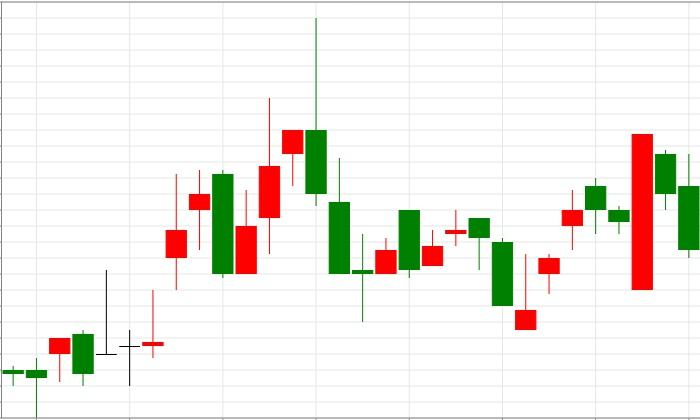inverse_hammer_rise: (444, 210, 537, 329)
